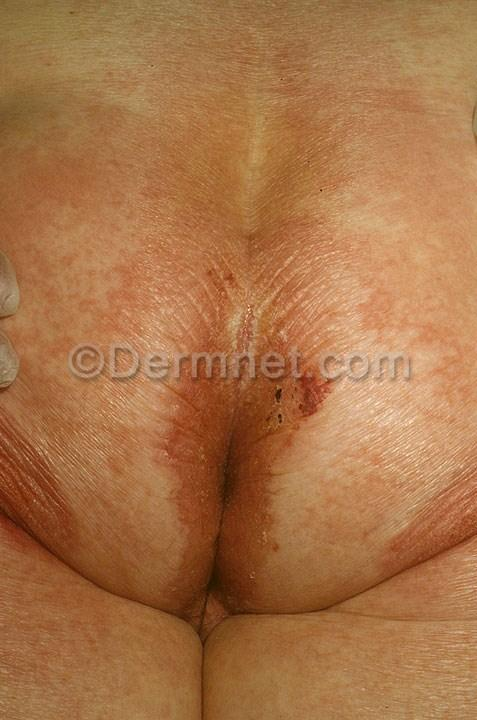Eczema: (205, 121, 423, 345), (12, 142, 202, 329), (240, 389, 375, 570), (0, 377, 112, 594), (120, 382, 213, 564), (385, 402, 477, 548)
